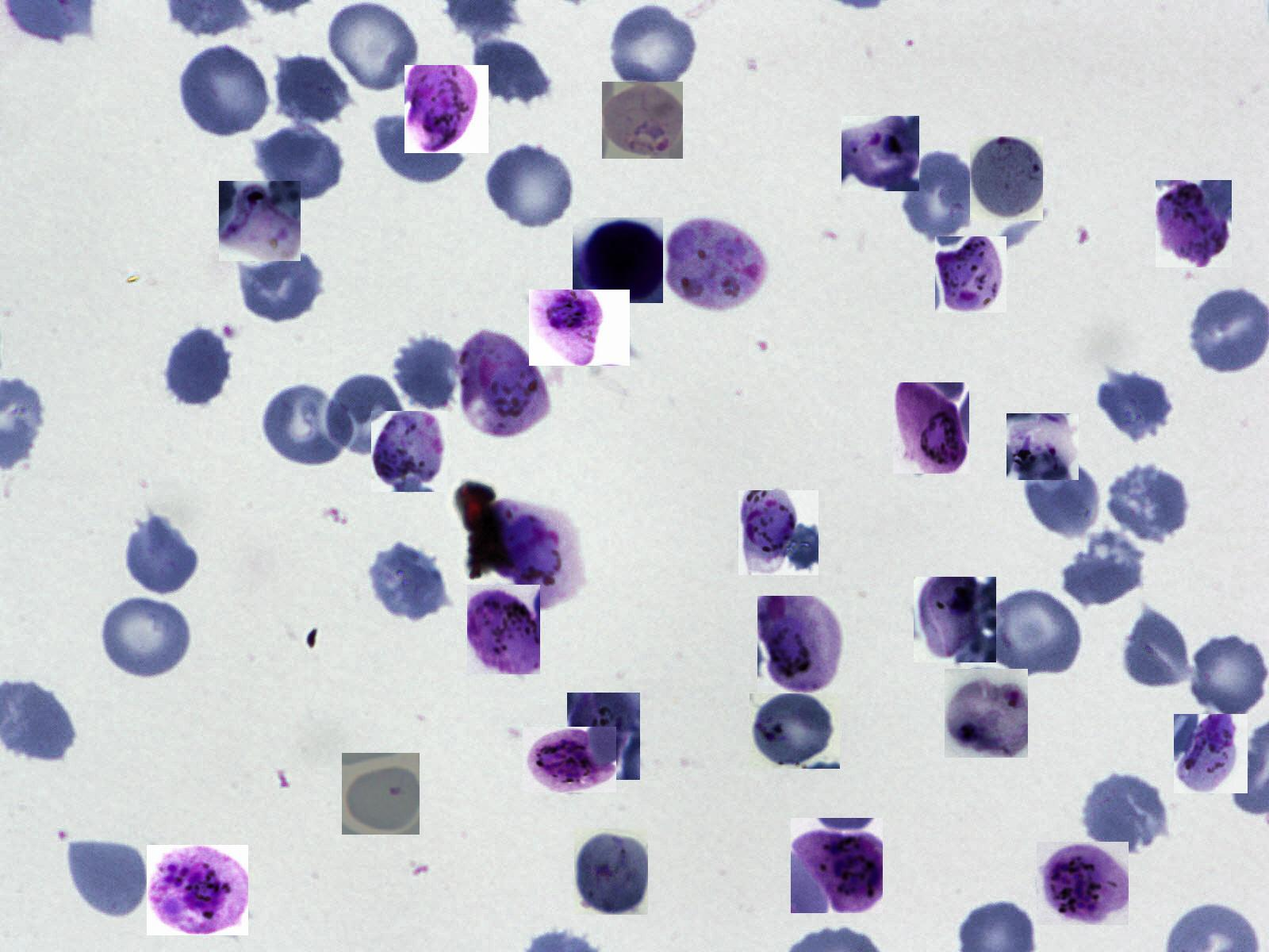Infected: (494, 498, 585, 612), (662, 217, 765, 315), (458, 330, 550, 436), (757, 596, 857, 693), (147, 845, 248, 935), (791, 818, 883, 913), (529, 290, 630, 367), (573, 217, 663, 303), (1037, 842, 1129, 925), (404, 65, 489, 153), (945, 669, 1028, 758), (893, 382, 969, 474), (914, 578, 996, 663), (738, 490, 819, 575), (750, 693, 840, 769), (1156, 180, 1232, 267), (219, 181, 301, 261), (467, 585, 540, 674), (574, 828, 648, 915), (342, 753, 420, 835), (567, 693, 640, 780), (602, 82, 683, 159), (970, 136, 1043, 221), (371, 411, 447, 492), (523, 727, 616, 793), (1174, 714, 1248, 793), (842, 116, 919, 191), (935, 236, 1006, 313), (1006, 413, 1079, 480)
Uninfected: (987, 585, 1085, 679), (178, 43, 272, 140), (261, 379, 357, 470), (484, 140, 577, 232), (98, 593, 195, 681), (607, 2, 700, 92), (901, 147, 982, 245), (61, 834, 152, 920), (327, 4, 417, 90), (1018, 453, 1101, 546), (1080, 771, 1170, 855), (1105, 461, 1193, 544), (1060, 527, 1148, 607), (256, 124, 345, 203), (233, 247, 328, 321), (373, 112, 466, 186), (366, 542, 448, 622), (1118, 607, 1194, 693), (1190, 635, 1269, 717), (1095, 364, 1176, 443), (324, 374, 403, 455), (122, 515, 199, 597), (273, 52, 355, 128), (390, 336, 464, 413), (165, 324, 232, 409), (465, 39, 549, 105)
